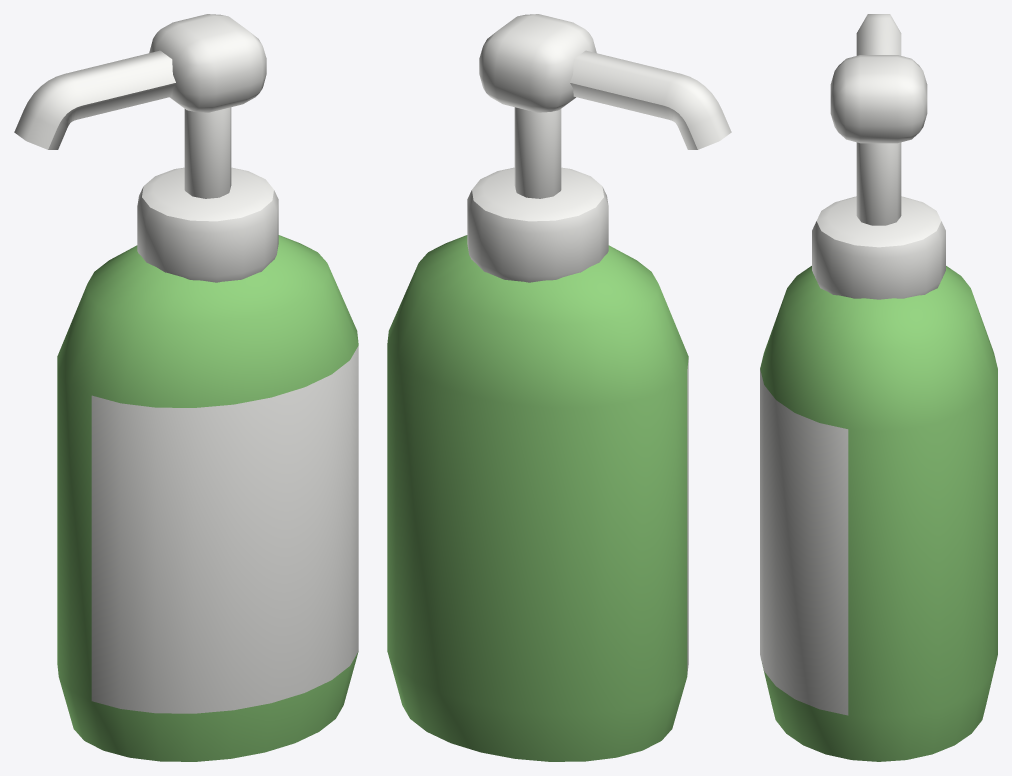
Rendered from frasco_sabonete_liquido_verde.glb.
3 views of the same model, side by side, from view 1: azimuth 30°, elevation 25°; view 2: azimuth 150°, elevation 25°; view 3: azimuth 270°, elevation 25° (orthographic). The views are drawn at different scales.
Parts seen in each view (by area): view 1: frasco_sabonete_liquido_verde; view 2: frasco_sabonete_liquido_verde; view 3: frasco_sabonete_liquido_verde.
Boxes of the visible parts, <box> form: frasco_sabonete_liquido_verde: <box>14,14,358,761</box>; frasco_sabonete_liquido_verde: <box>387,14,731,761</box>; frasco_sabonete_liquido_verde: <box>760,14,997,761</box>.
Bounding box in the file's own units: 0.0946 × 0.19 × 0.064.
1 material, 1 textured.
